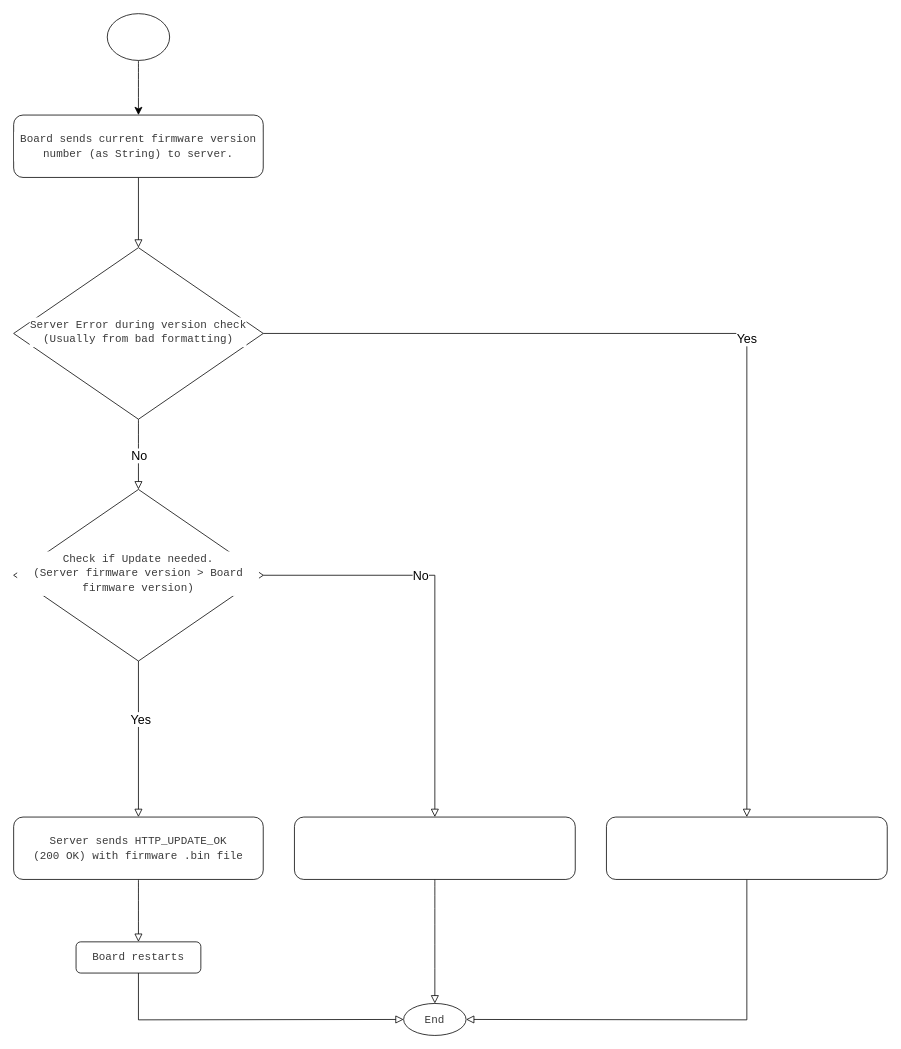
Image size: 901x1049. Some labels were removed from this diagram. Here are the shapes that lost their labels. From the top down, the box of each, then its label:
(106, 13, 170, 60): Start
(294, 816, 575, 879): Server sends HTTP_UPDATE_NO_UPDATES (304 Not Modified) and optional message
(606, 816, 887, 879): Server sends HTTP_UPDATE_FAILED (Any other opcode) and optional message
